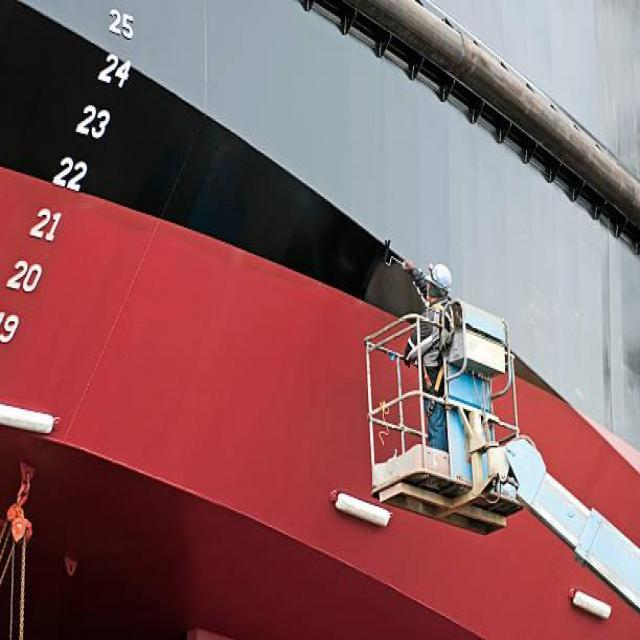belt: (418, 299, 466, 424)
